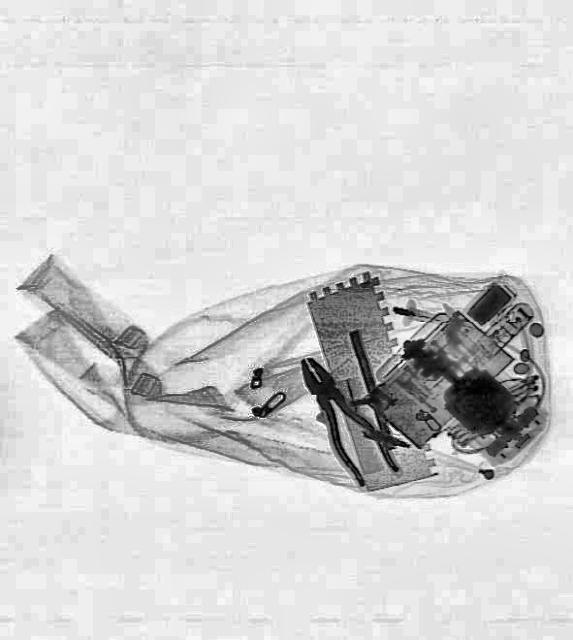Pliers: (283, 342, 401, 494)
